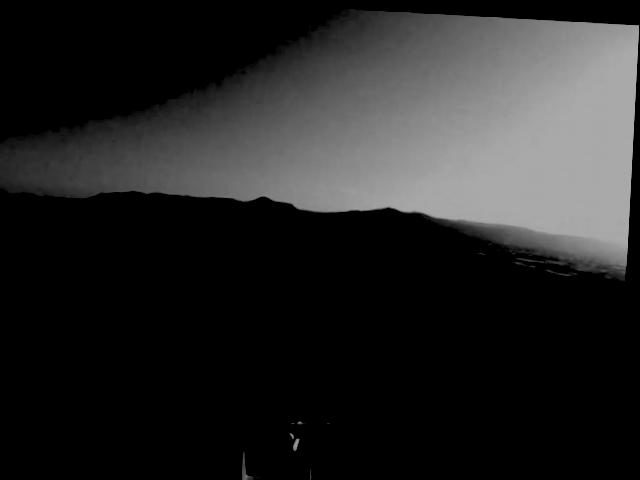hedef: (183, 392, 401, 480)
